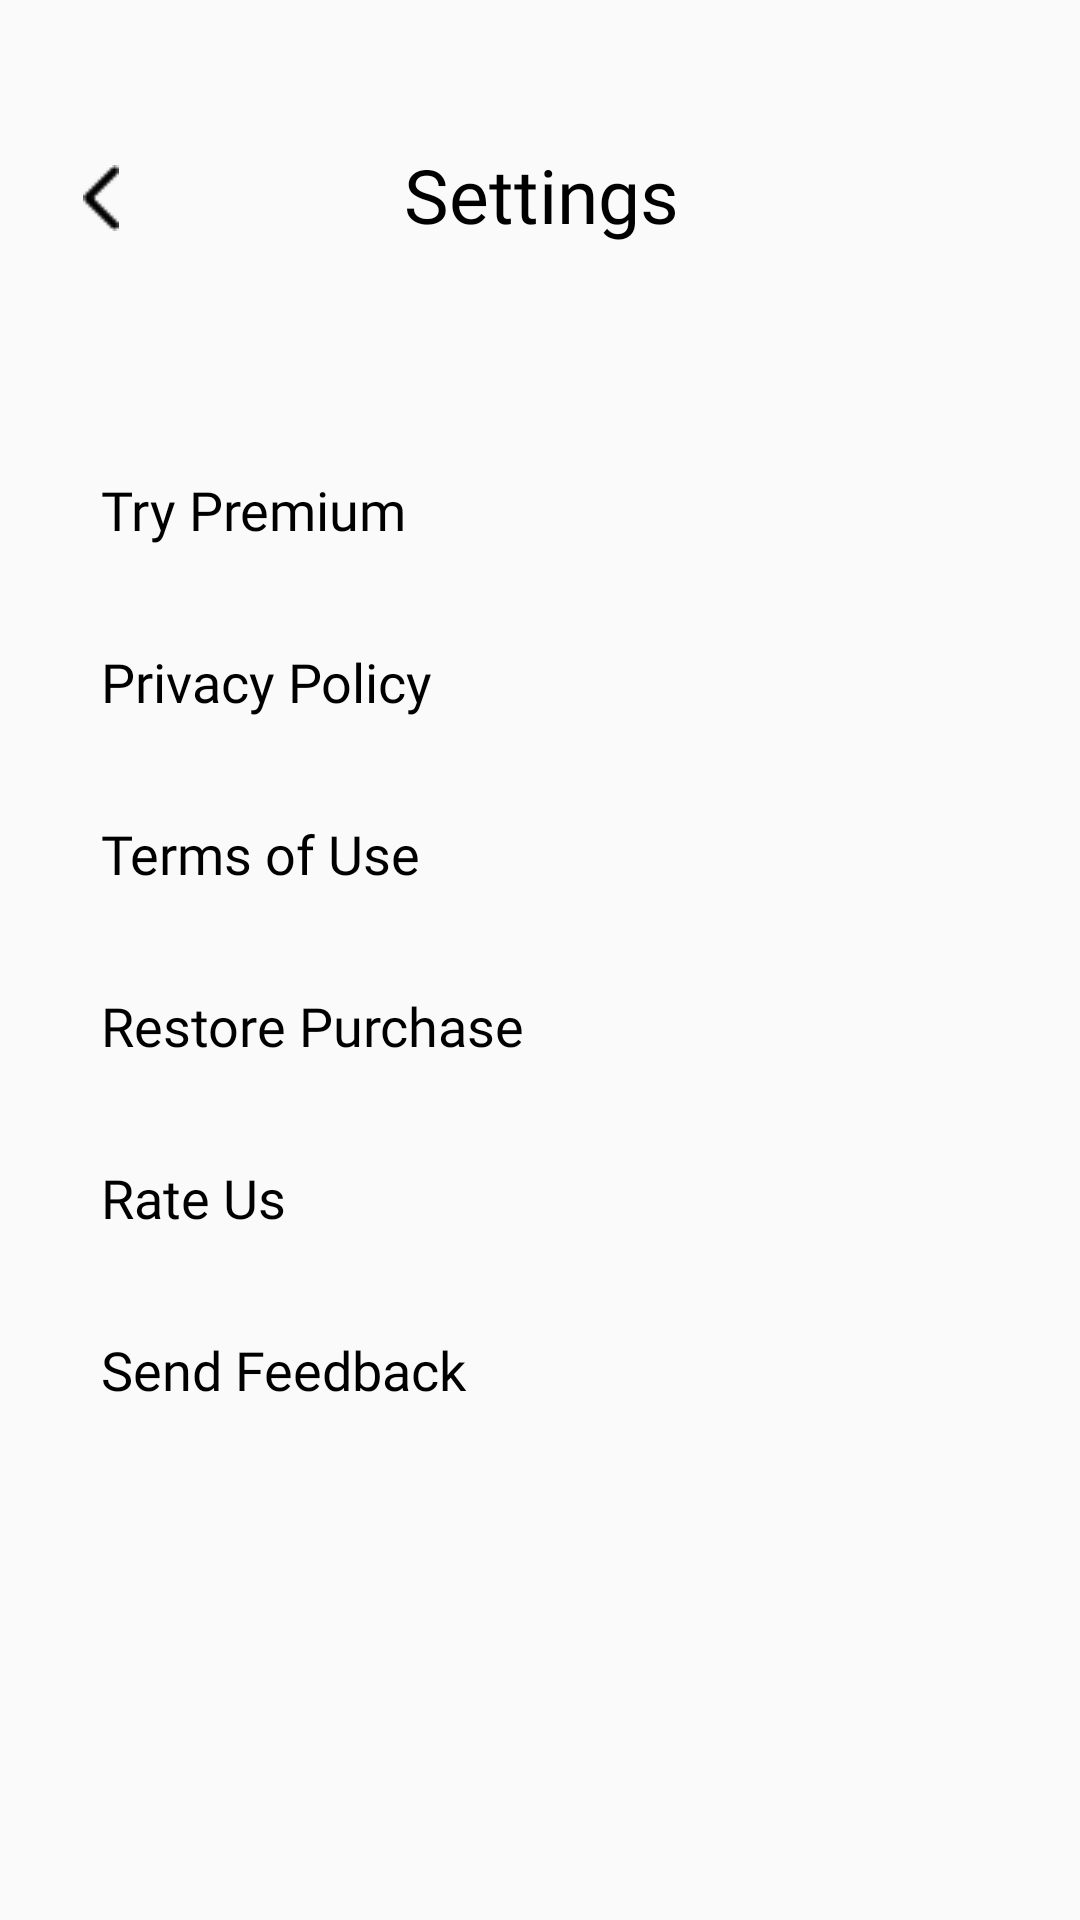

Named icons in this screenshot (1080 x 1920) and their bounding boxes, (x1, y1, x2, y2):
backvector: (83, 165, 119, 231)
